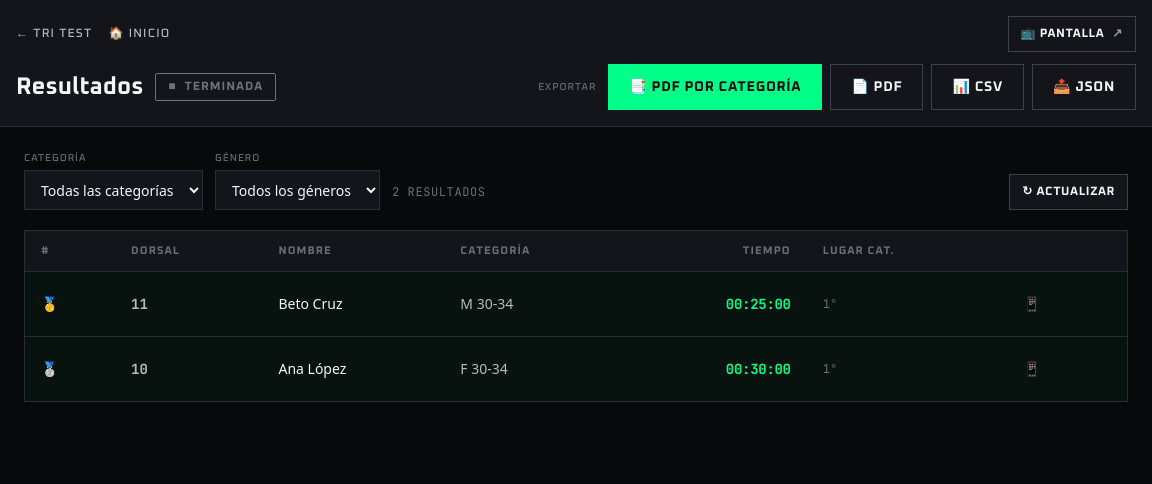
Scenario: Resultados — controles › ↻ Actualizar re-reads the results
Expected: the text "Ana López" is shown, [262,336,444,401]
Step 1. Click the button "↻ Actualizar" → (1069, 192), box [1009,174,1128,210]
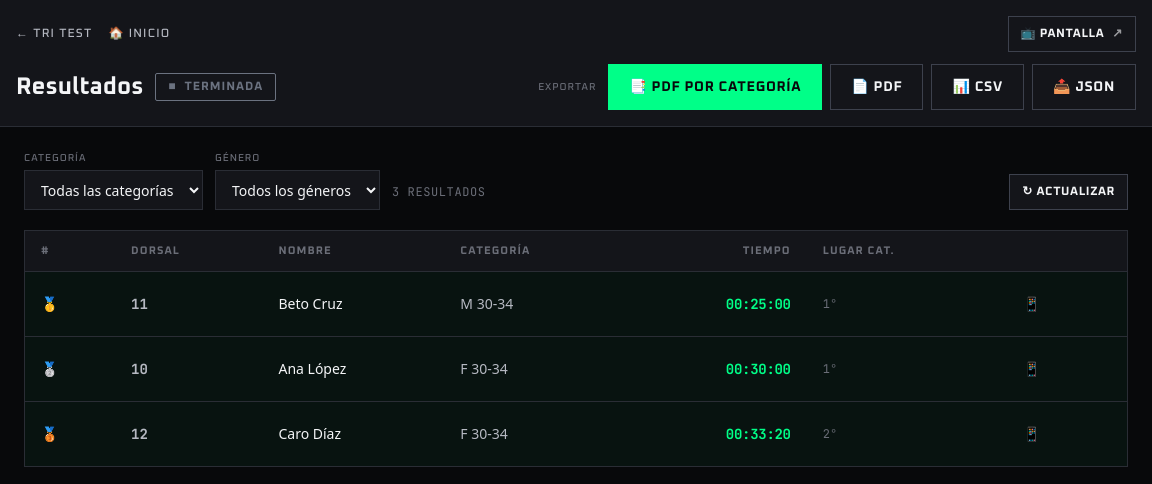
Result: the text "Caro Díaz" is shown at [262,401,444,466]
